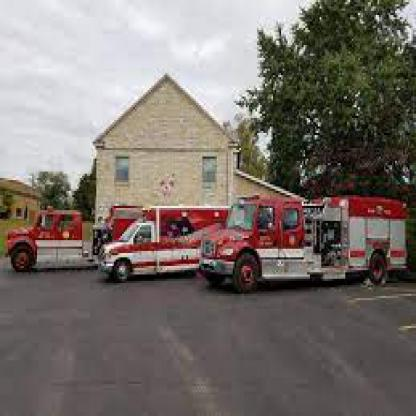fire-truck: (0, 163, 416, 359)
